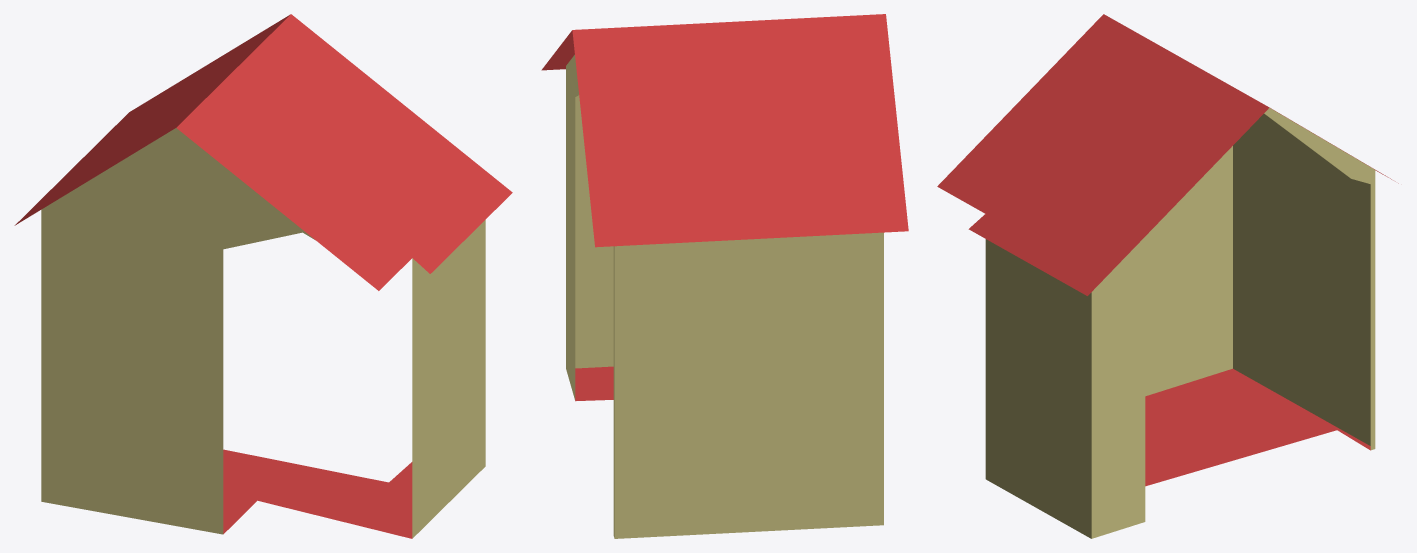
The picture shows the model from 3 angles, left to right: view 1: azimuth 30°, elevation 25°; view 2: azimuth 150°, elevation 25°; view 3: azimuth 270°, elevation 25°; orthographic projection. The views are drawn at different scales.
Size of the model in its own units: 17.53 by 17.83 by 16.27.
